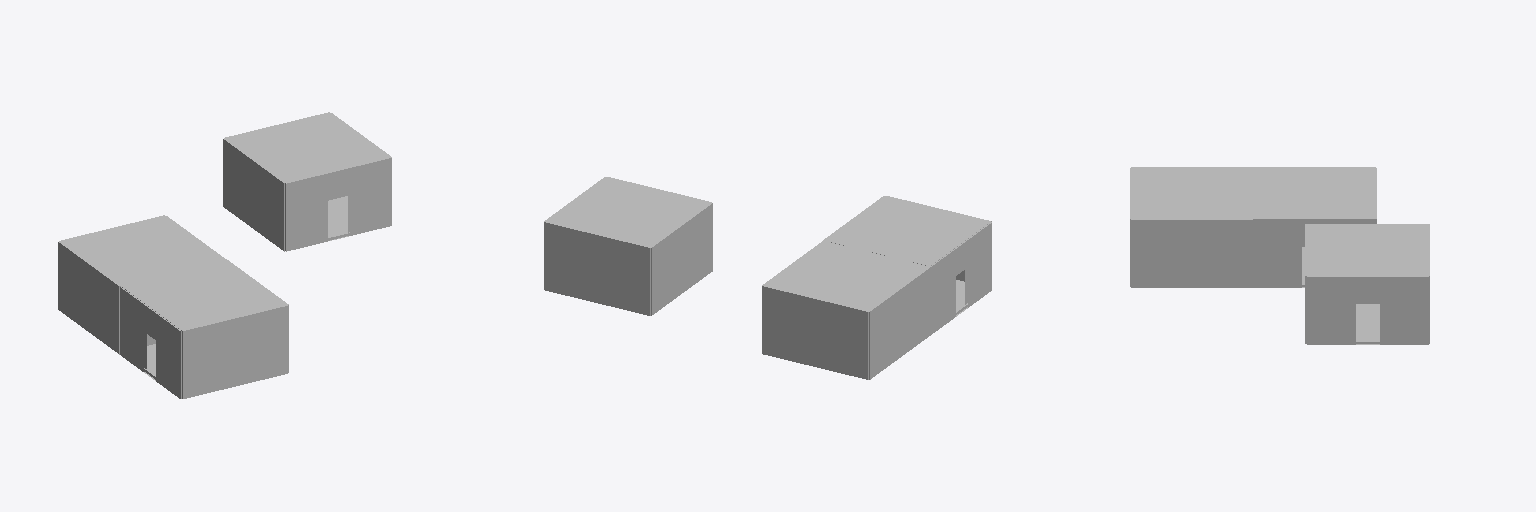
File: room.obj
The picture shows the model from 3 angles: view 1: azimuth 30°, elevation 25°; view 2: azimuth 150°, elevation 25°; view 3: azimuth 270°, elevation 25°; orthographic projection.
Parts seen in each view (by area): view 1: Cube.007, Cube.013, Cube.012, Cube.006, Cube.017, Cube.003, Cube.015, Cube.009, Cube.016; view 2: Cube.001, Cube.008, Cube.017, Cube.012, Cube.006, Cube.003, Cube.015, Cube.009; view 3: Cube.010, Cube.014, Cube.006, Cube.012, Cube.017, Cube.004, Cube.016.
Boxes of the visible parts, x1=… form: Cube.007: x1=182, y1=305, x2=287, y2=398; Cube.013: x1=285, y1=157, x2=391, y2=251; Cube.012: x1=121, y1=261, x2=284, y2=330; Cube.006: x1=61, y1=216, x2=224, y2=284; Cube.017: x1=227, y1=113, x2=389, y2=181; Cube.003: x1=58, y1=241, x2=120, y2=354; Cube.015: x1=223, y1=139, x2=284, y2=251; Cube.009: x1=120, y1=287, x2=181, y2=398; Cube.016: x1=328, y1=196, x2=349, y2=240; Cube.001: x1=762, y1=285, x2=868, y2=379; Cube.008: x1=544, y1=222, x2=650, y2=315; Cube.017: x1=545, y1=177, x2=710, y2=246; Cube.012: x1=826, y1=197, x2=989, y2=265; Cube.006: x1=765, y1=241, x2=928, y2=309; Cube.003: x1=868, y1=267, x2=930, y2=379; Cube.015: x1=650, y1=202, x2=712, y2=315; Cube.009: x1=930, y1=222, x2=991, y2=334; Cube.010: x1=1131, y1=219, x2=1252, y2=287; Cube.014: x1=1307, y1=276, x2=1428, y2=344; Cube.006: x1=1253, y1=168, x2=1375, y2=219; Cube.012: x1=1131, y1=168, x2=1252, y2=218; Cube.017: x1=1307, y1=224, x2=1428, y2=275; Cube.004: x1=1253, y1=220, x2=1375, y2=287; Cube.016: x1=1356, y1=304, x2=1379, y2=343.
Size of the model in its own units: 73.66 by 24.7 by 64.01.